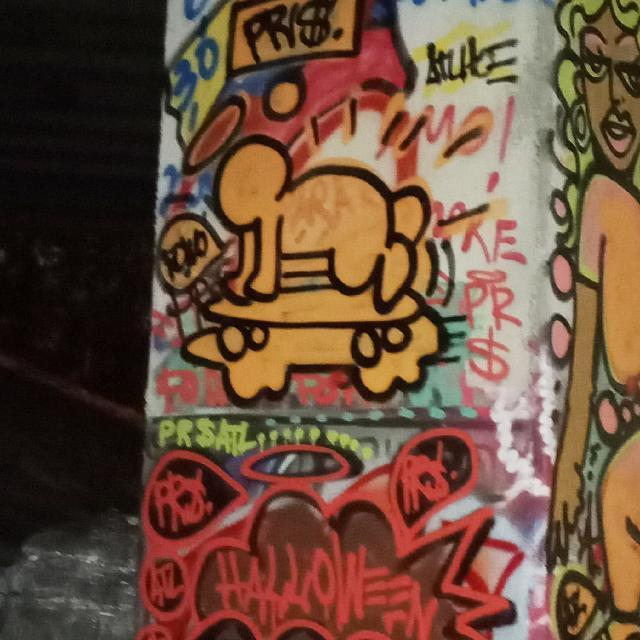-: (165, 104, 462, 411), (148, 446, 510, 640), (551, 6, 638, 640), (442, 210, 527, 400), (420, 37, 520, 84)
